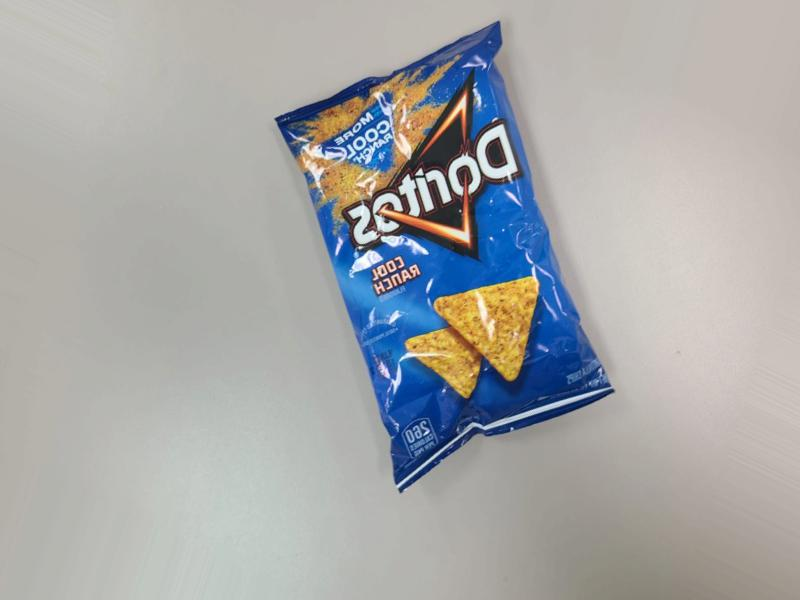doritos: (309, 39, 635, 440)
